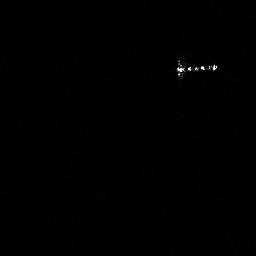ship: (172, 56, 221, 80)
